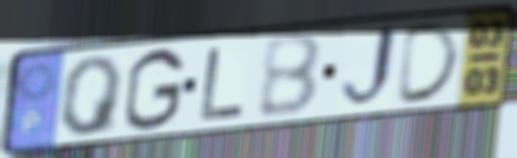B: (256, 31, 325, 120)
D: (393, 19, 464, 108)
G: (121, 45, 188, 134)
J: (337, 20, 401, 115)
L: (197, 45, 249, 124)
Q: (59, 53, 128, 139)
